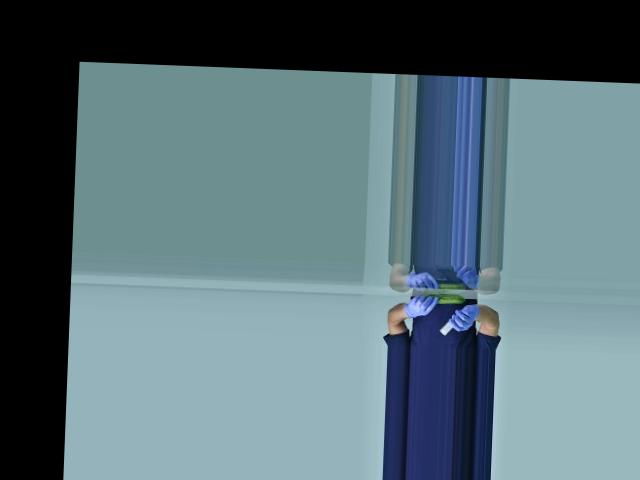cucumber: (426, 293, 465, 304)
